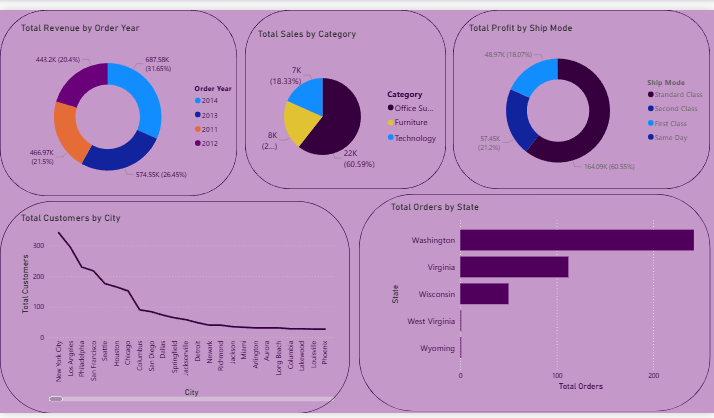

This screenshot's page, from the dashboard's own definition file:
{"tool":"powerbi","page":{"name":"Page 2","canvas":[1280,720],"ordinal":1},"visuals":[{"type":"lineChart","fields":{"Category":["Superstore.City"],"Y":["Superstore.Total Customers"]},"box":[32.1,360.7,569.6,342.9],"z":0},{"type":"pieChart","fields":{"Category":["Superstore.Category"],"Y":["Superstore.Total Sales"]},"box":[455.2,31.9,341,297.3],"z":1000},{"type":"donutChart","fields":{"Category":["Superstore.Ship Mode"],"Y":["Superstore.Total Profit"]},"box":[831.5,21.8,436.7,297.3],"z":2000},{"type":"clusteredBarChart","fields":{"Category":["Superstore.State"],"Y":["Superstore.Total Orders"]},"box":[692.9,341.1,575,342.9],"z":3000},{"type":"shape","box":[437.5,0,358.9,319.6],"z":4000},{"type":"shape","box":[808.9,0,458.9,319.6],"z":5000},{"type":"donutChart","fields":{"Category":["Superstore.Order Year"],"Y":["Superstore.Total Revenue"]},"box":[32.1,21.4,405.4,319.6],"z":6000},{"type":"shape","box":[0,0,423.2,332.1],"z":7000},{"type":"shape","box":[640.6,329,627.5,388.4],"z":8000},{"type":"shape","box":[0,340.6,624.6,379.7],"z":9000}]}

Visuals, with their boxes in screenshot pixels (x1, y1, x2, y2):
lineChart - Superstore.City x Superstore.Total Customers: select_region(2, 213, 326, 409)
pieChart - Superstore.Category x Superstore.Total Sales: select_region(243, 26, 437, 195)
donutChart - Superstore.Ship Mode x Superstore.Total Profit: select_region(457, 20, 707, 189)
clusteredBarChart - Superstore.State x Superstore.Total Orders: select_region(378, 202, 706, 398)
shape: select_region(233, 7, 437, 190)
shape: select_region(445, 7, 706, 190)
donutChart - Superstore.Order Year x Superstore.Total Revenue: select_region(2, 20, 233, 202)
shape: select_region(0, 7, 225, 197)
shape: select_region(349, 195, 706, 417)
shape: select_region(0, 202, 339, 417)
